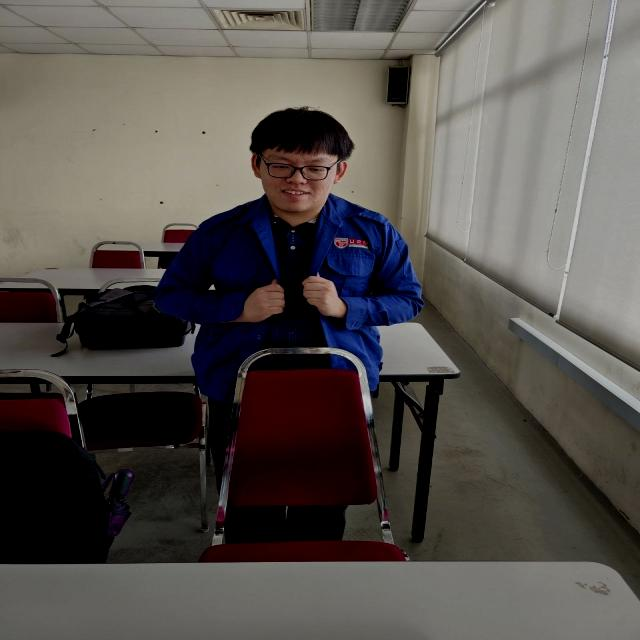person_with_labcoat: (155, 107, 422, 489), (230, 507, 345, 541)
